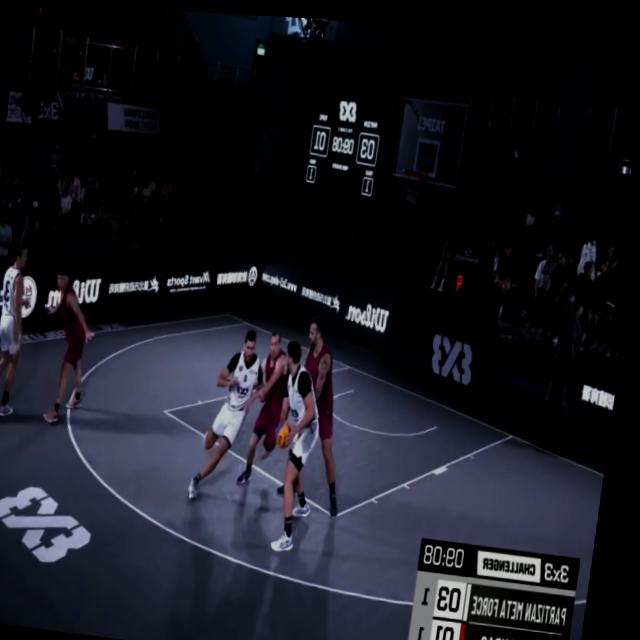ball: (278, 412, 300, 448)
hoop: (401, 157, 431, 206)
player: (277, 305, 369, 518), (263, 328, 338, 555), (193, 322, 275, 505), (33, 259, 110, 426), (242, 327, 301, 493), (0, 246, 39, 419)
